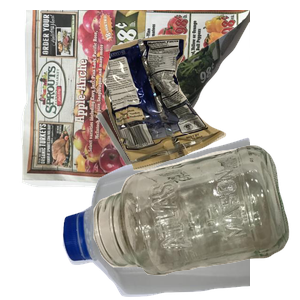glass: (91, 143, 300, 300)
paper: (18, 10, 258, 190)
plastic: (60, 135, 300, 300)
trash: (101, 32, 300, 195)
